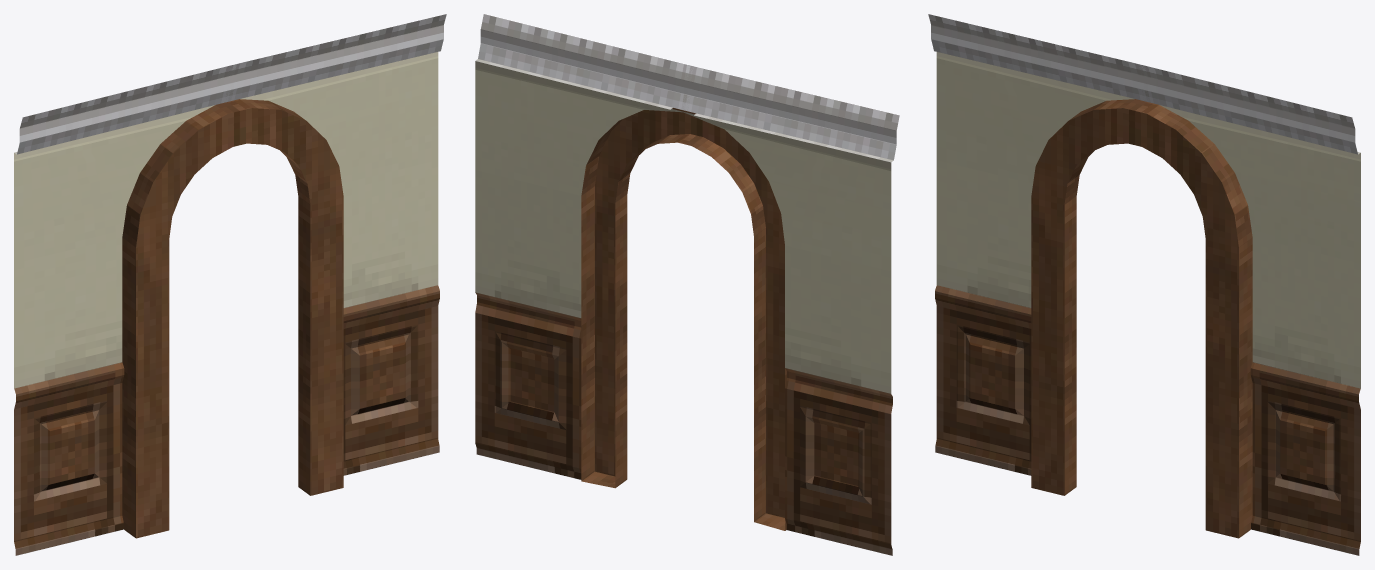
Rendered from Wall.Arch.glb.
3 views of the same model, side by side, from view 1: azimuth 30°, elevation 25°; view 2: azimuth 150°, elevation 25°; view 3: azimuth 330°, elevation 25° (orthographic).
Parts seen in each view (by area): view 1: Plane.003; view 2: Plane.003; view 3: Plane.003.
Boxes of the visible parts, bbox=[...] form: Plane.003: bbox=[14, 14, 446, 555]; Plane.003: bbox=[475, 14, 899, 555]; Plane.003: bbox=[928, 14, 1360, 555].
Size of the model in its own units: 3 by 3 by 0.1836.
2 materials, 2 textured.
